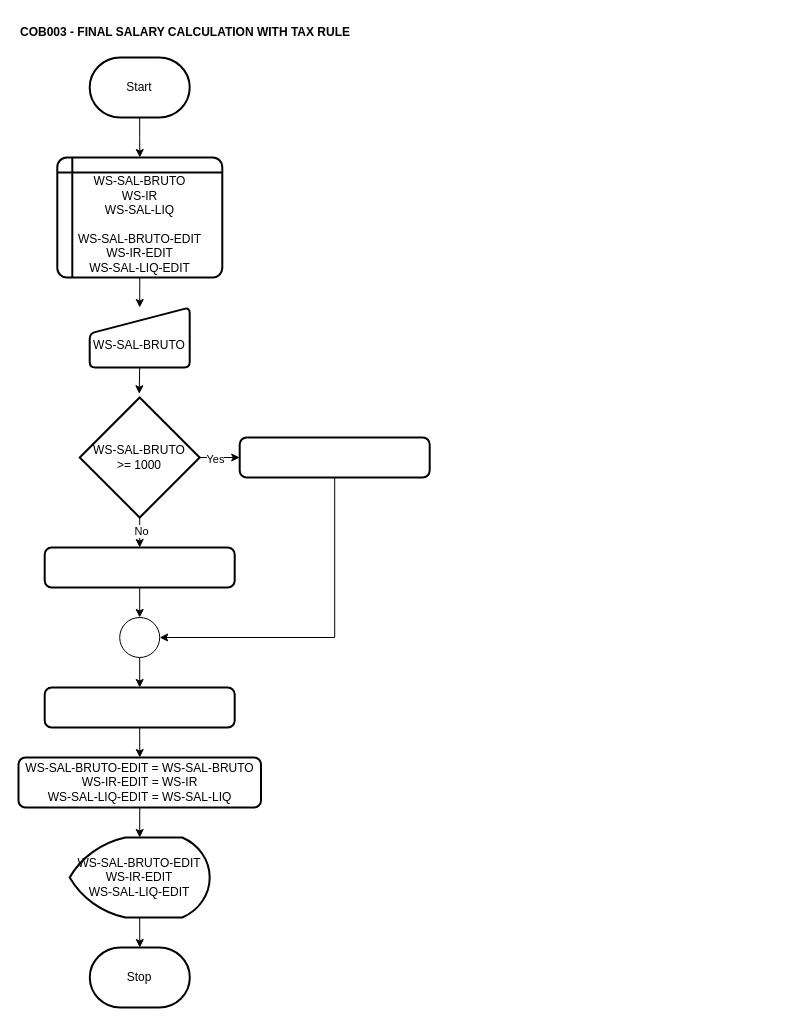
The diagram is 795 pixels wide and 1025 high, and some of its shapes have lost their labels. Each missing label, with the centre of its shape:
"WS-IR = WS-SAL-BRUTO * 0,10" goes at point (139, 567).
"WS-IR = WS-SAL-BRUTO * 0,15" goes at point (334, 457).
"WS-SAL-LIQ = WS-SAL-BRUTO - WS-IR" goes at point (139, 707).
